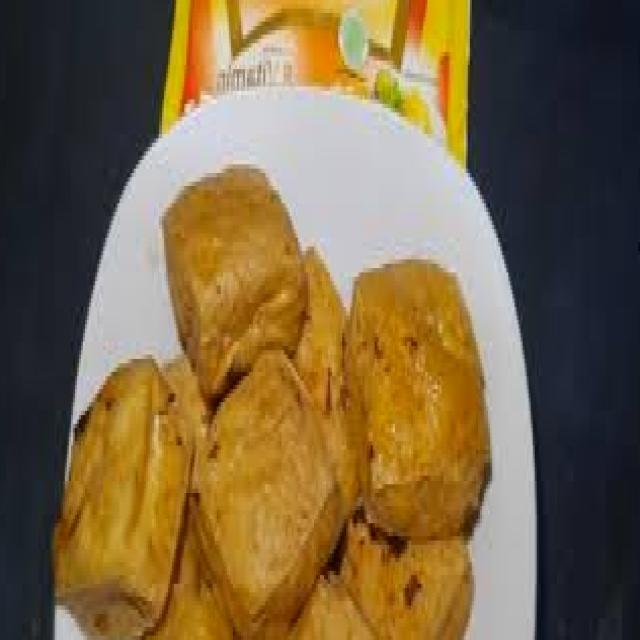tahu: (46, 346, 195, 640), (203, 339, 349, 630), (338, 250, 489, 512), (161, 140, 302, 388)
